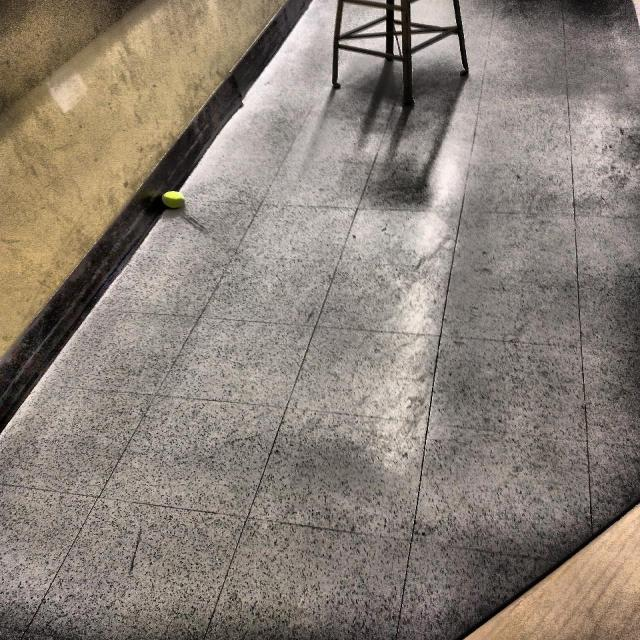tennis-ball: (159, 188, 187, 210)
